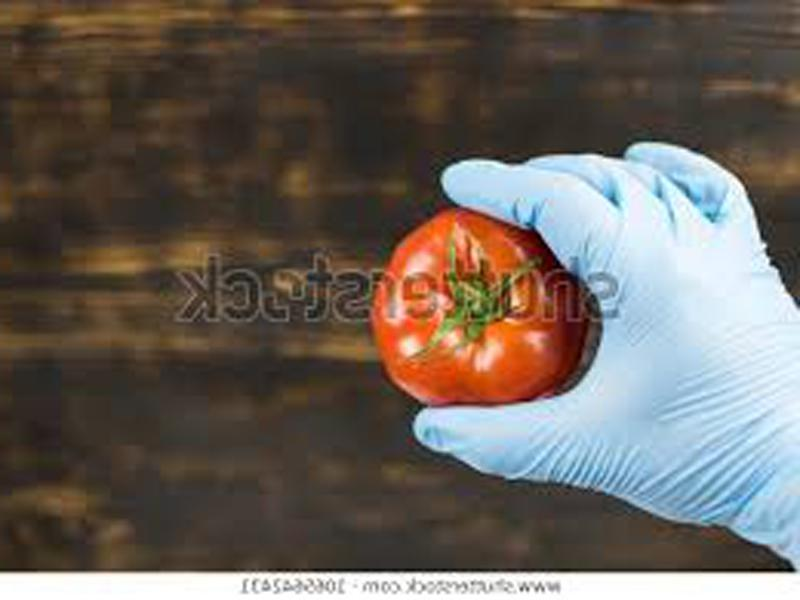Tomato: (368, 207, 590, 408)
